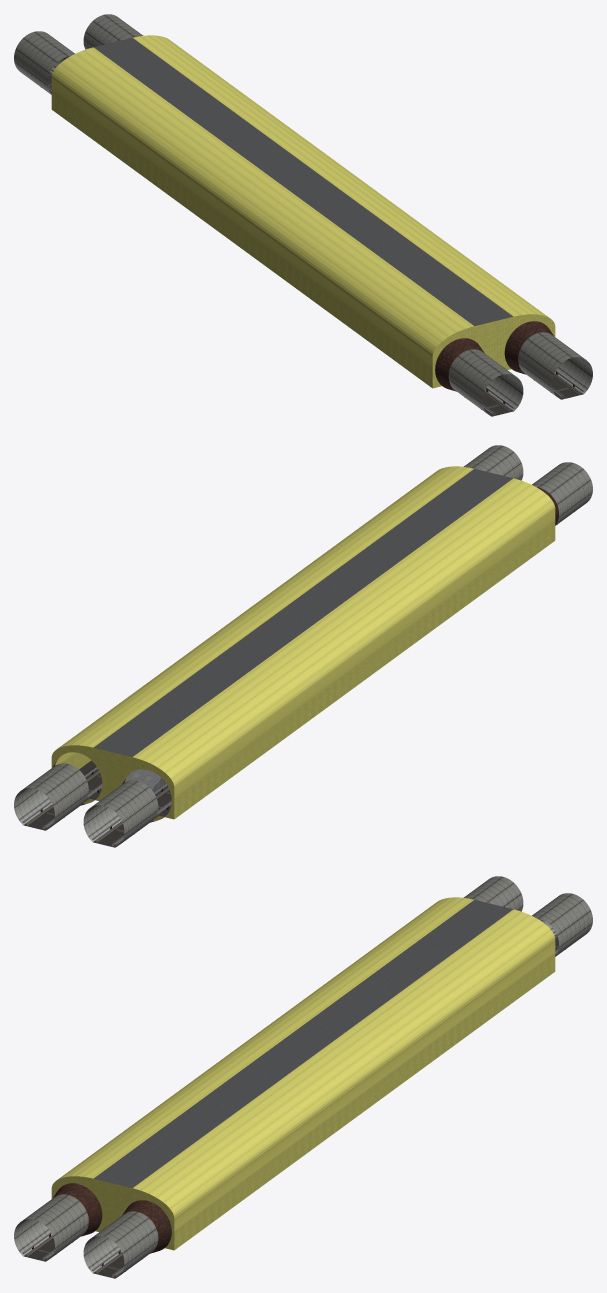
The model's file is station_west-street.glb.
3 views of the same model, one above another, from view 1: azimuth 30°, elevation 25°; view 2: azimuth 150°, elevation 25°; view 3: azimuth 330°, elevation 25° (orthographic).
Visible parts, largest first — view 1: hall_shell, end_walls; view 2: hall_shell, end_walls; view 3: hall_shell, end_walls.
Boxes of the visible parts, bbox=[...] form: hall_shell: bbox=[41, 35, 584, 415]; end_walls: bbox=[14, 14, 592, 416]; hall_shell: bbox=[22, 466, 557, 846]; end_walls: bbox=[14, 445, 592, 847]; hall_shell: bbox=[22, 897, 565, 1277]; end_walls: bbox=[14, 876, 592, 1278].
Size of the model in its own units: 10.04 by 4.69 by 66.4.
30 materials, 21 textured.
